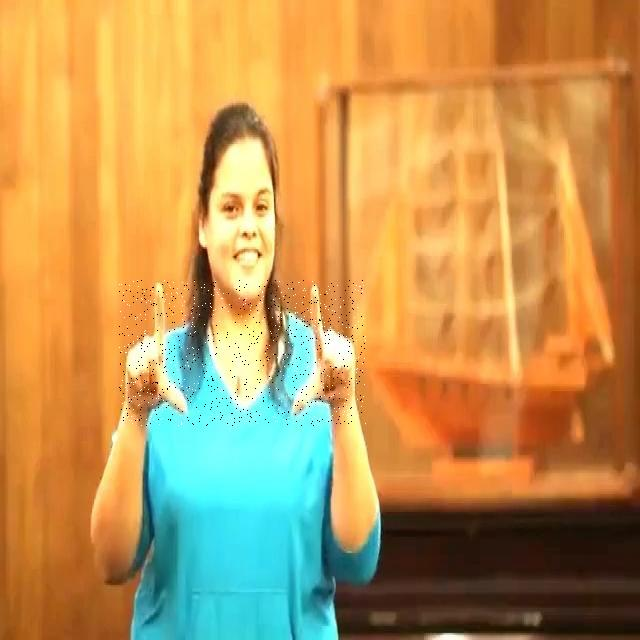bill: (119, 280, 366, 426)
